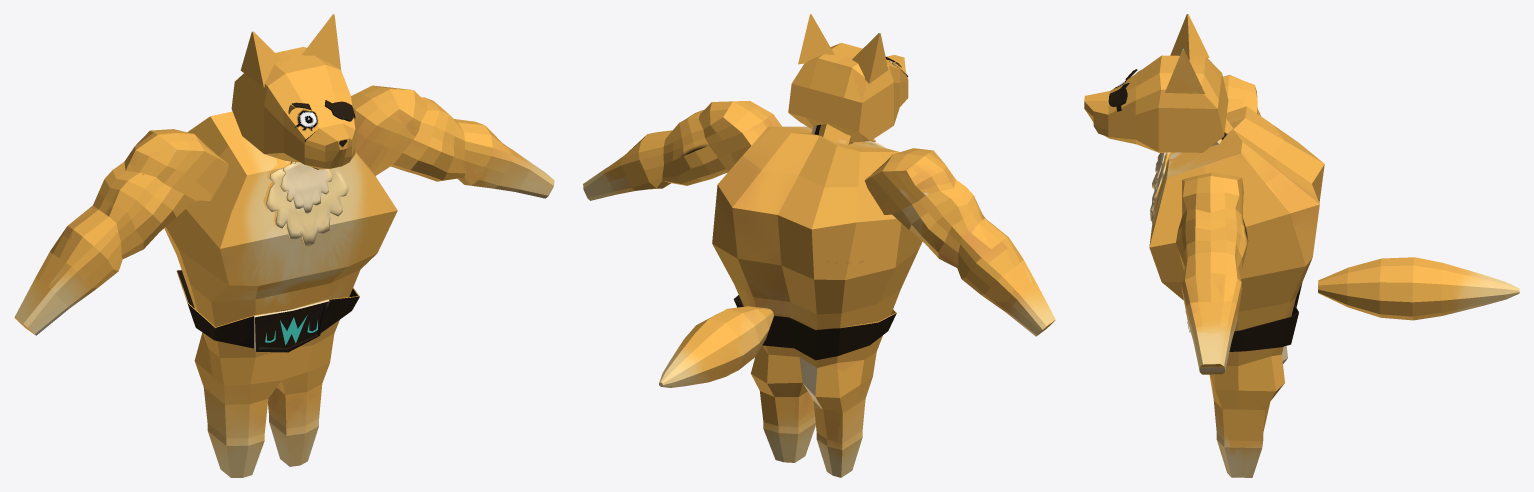
The model's file is furra_allin.fbx.
3 views of the same model, side by side, from view 1: azimuth 30°, elevation 25°; view 2: azimuth 150°, elevation 25°; view 3: azimuth 270°, elevation 25° (orthographic). The views are drawn at different scales.
Visible parts, largest first — view 1: foorro; view 2: foorro; view 3: foorro.
Boxes of the visible parts, x1=… form: foorro: x1=14, y1=14, x2=554, y2=477; foorro: x1=583, y1=14, x2=1055, y2=477; foorro: x1=1084, y1=14, x2=1519, y2=477.
Bounding box in the file's own units: 735 × 627 × 578.
